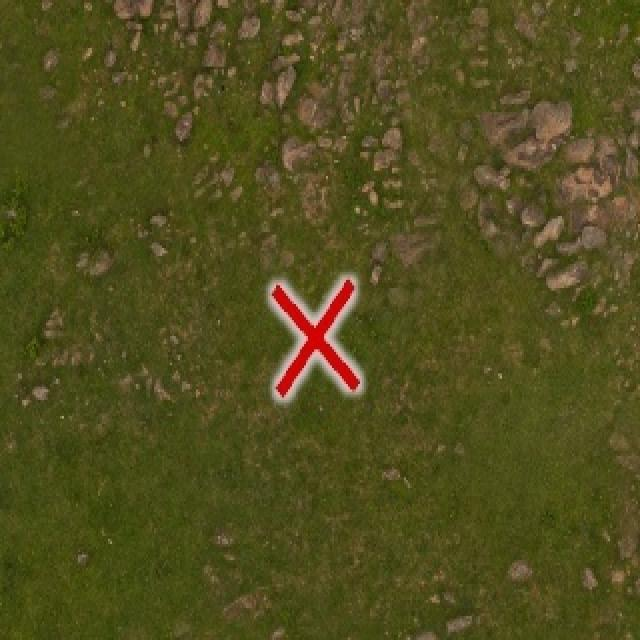x_marker: (271, 279, 359, 396)
